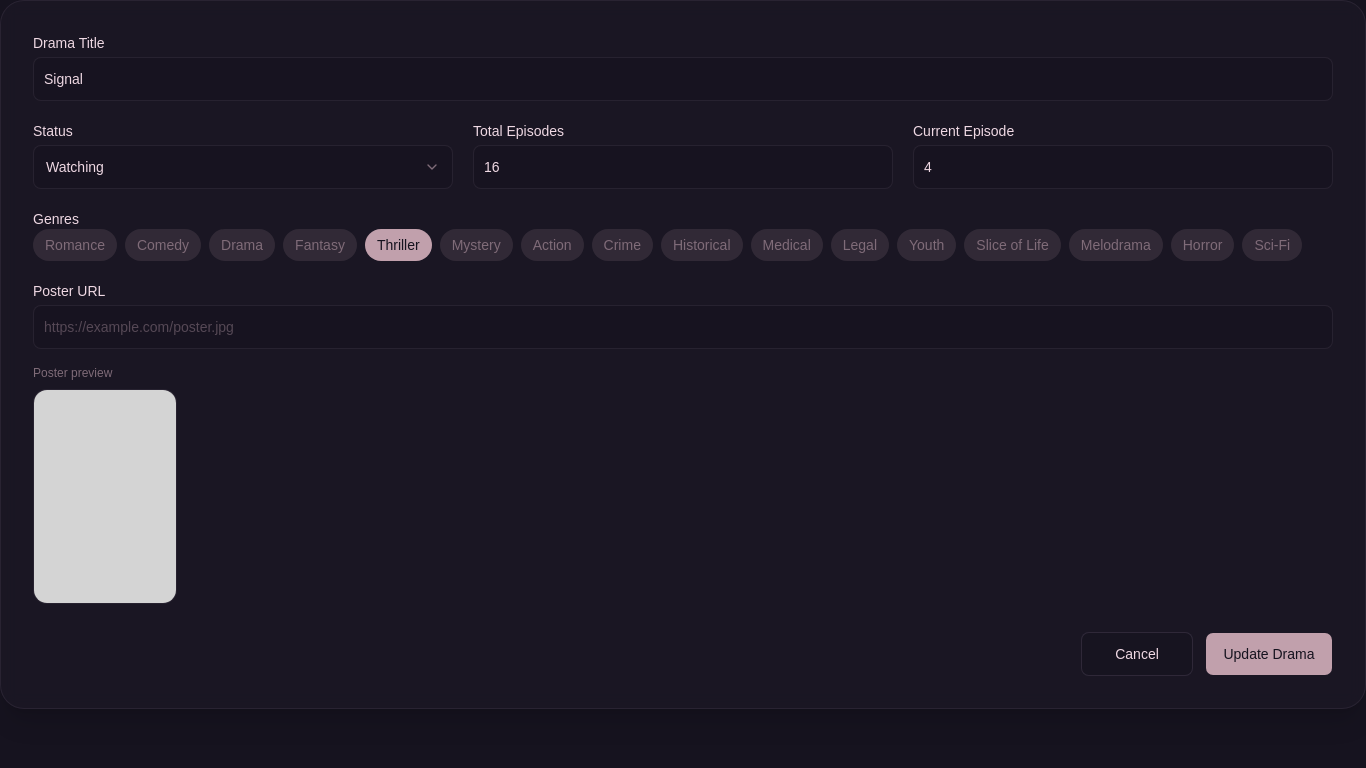
it: DramaForm validation › shows an inline current episode range error
Replace the text in the number field labelled "Current Episode" with "17" at (1123,167), box [913,145,1333,189]
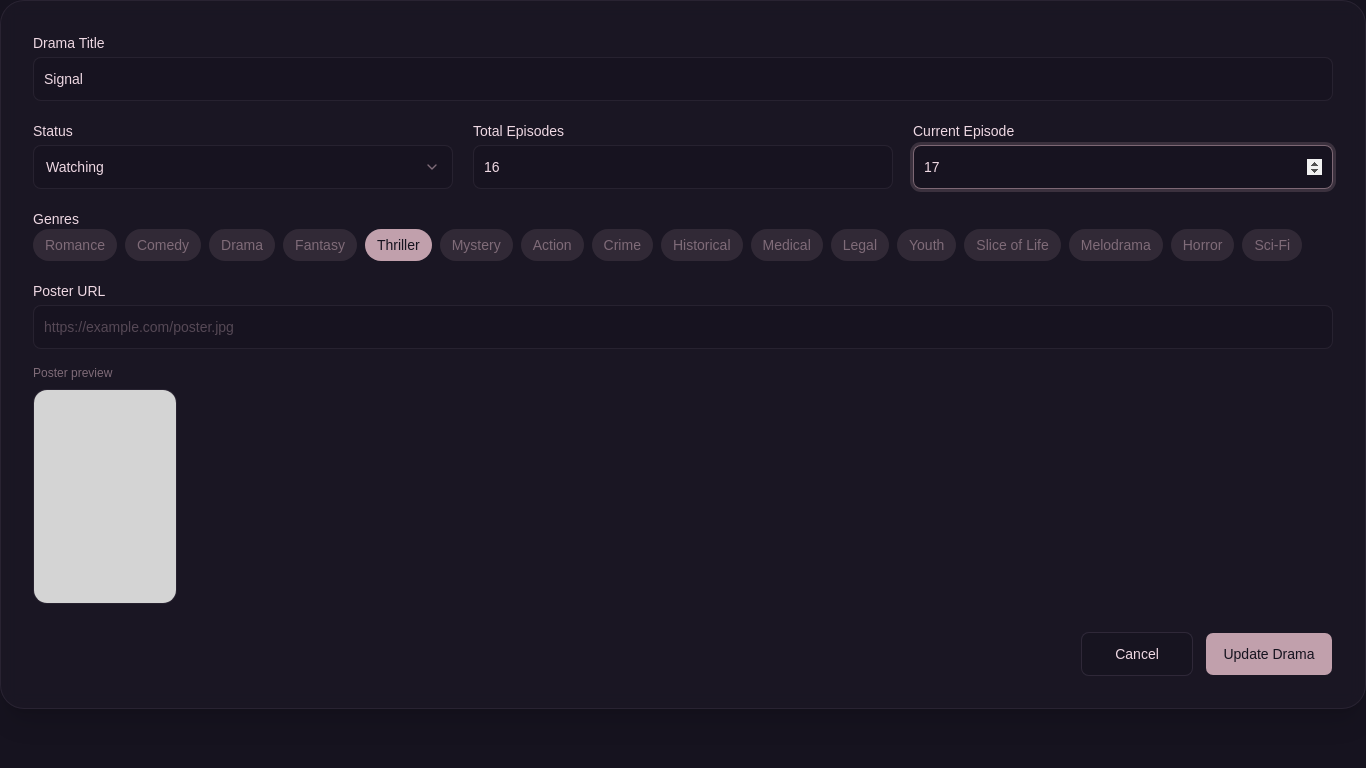
Click the button "Update Drama" at (1269,654), box [1205,632,1333,676]
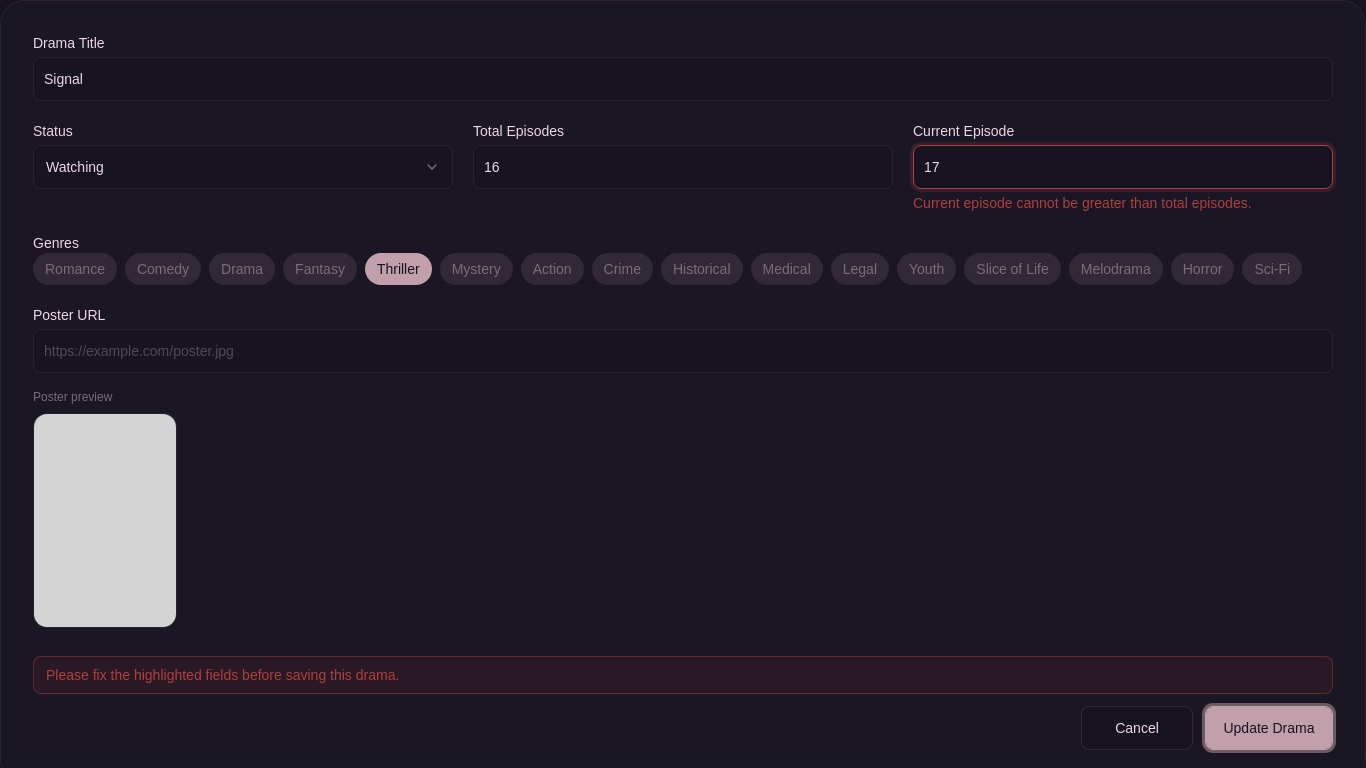
Expected: the text "Current episode cannot be greater than total episodes." is shown, [913,195,1252,211]
